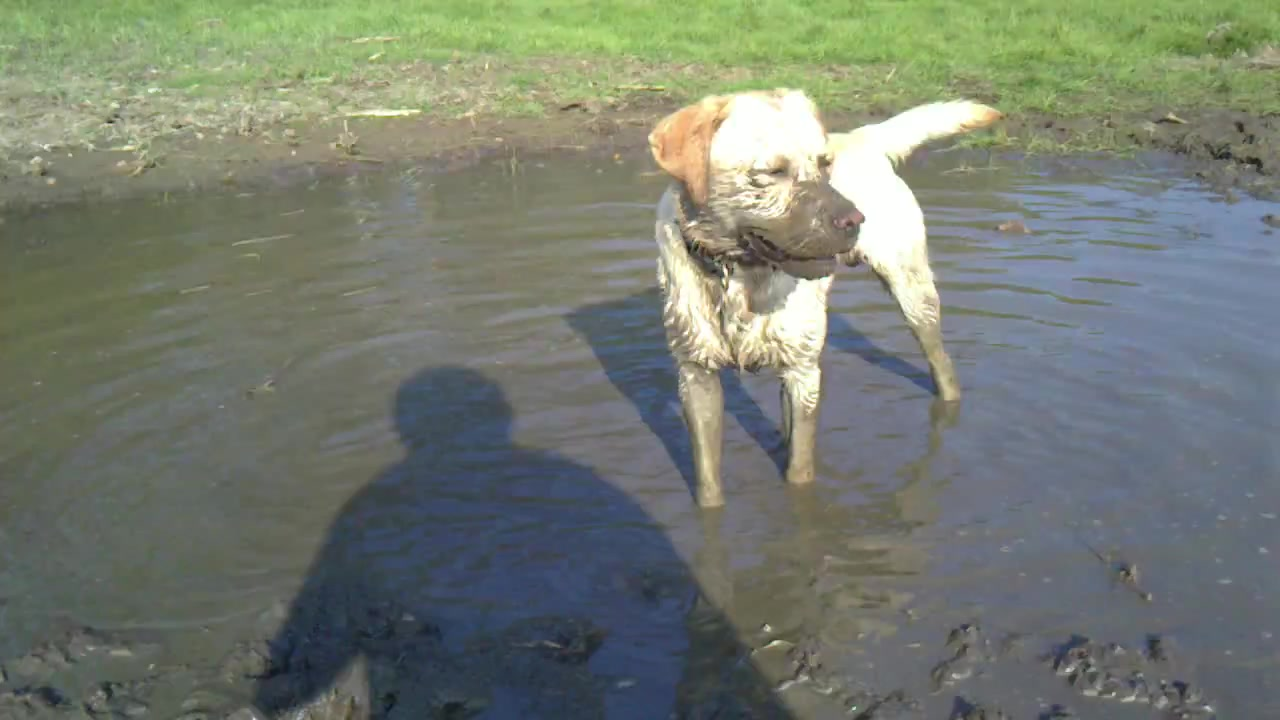dog: (645, 90, 1008, 512)
